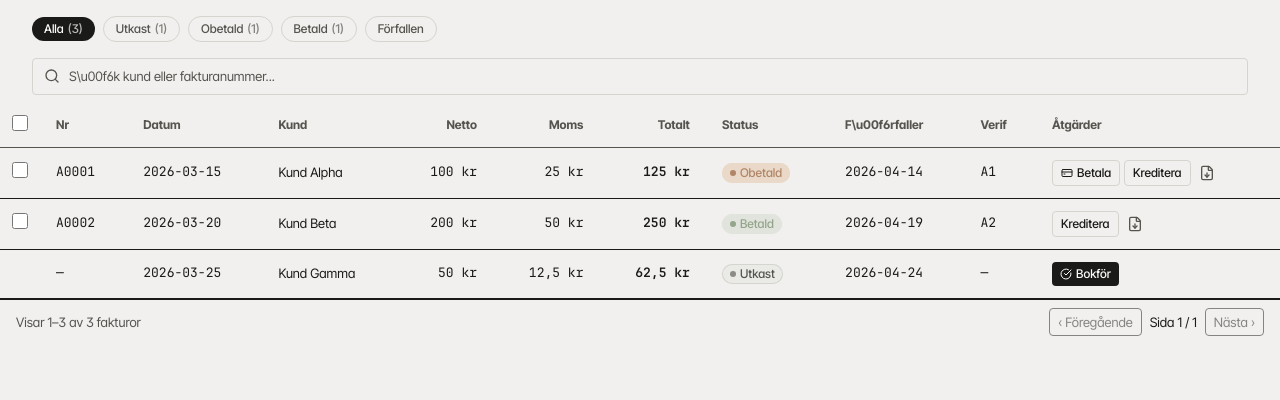
Scenario: InvoiceList PDF features › P5: "Exportera PDF:er" button appears when items selected
This screenshot has width=1280, height=400.
Expected: the text "Kund Alpha" is shown, x1=262 y1=147 x2=396 y2=198
Click the checkbox next to "A0001": (20, 170) x1=12 y1=162 x2=28 y2=178
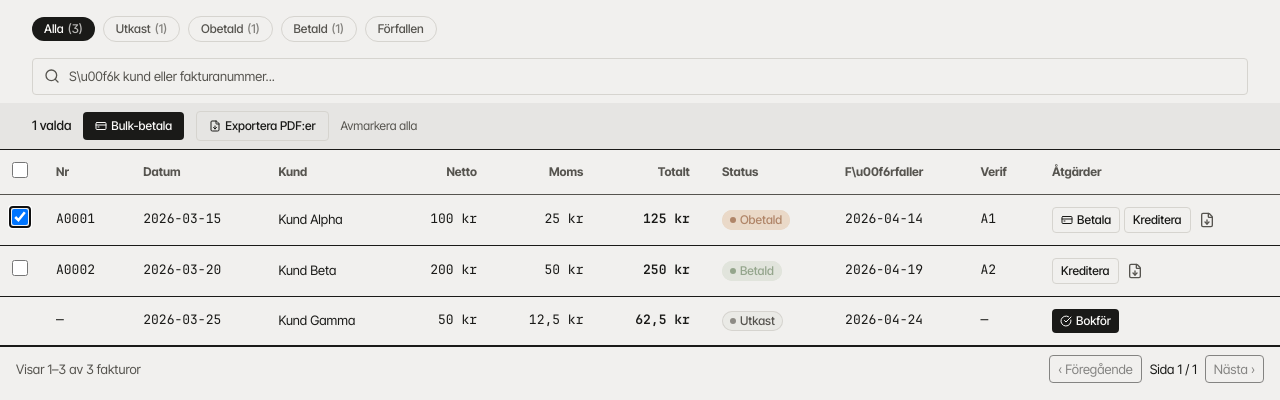
Result: the button "Exportera PDF:er" is shown at x1=196 y1=111 x2=329 y2=141
